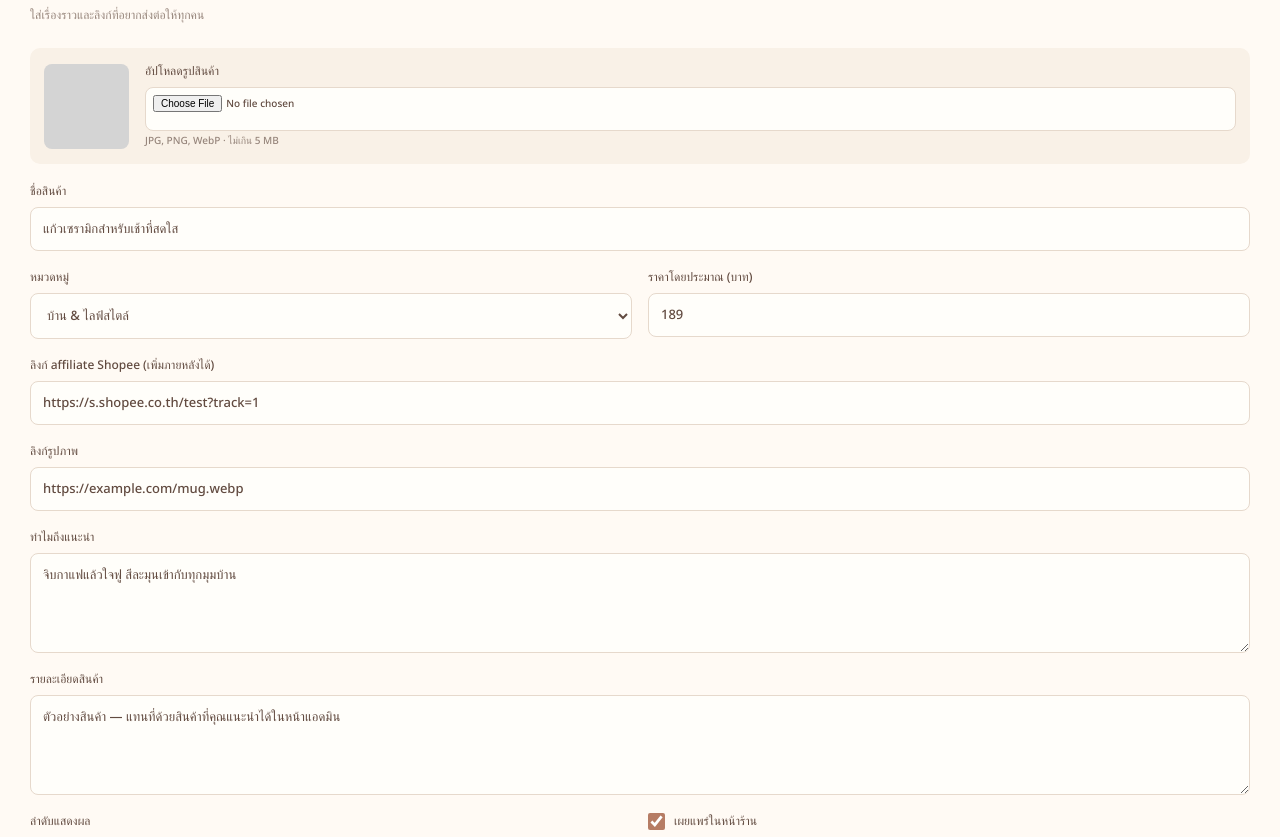
Test: failed product save keeps form and submits original revision
Replace the text in the field labelled "ชื่อสินค้า" with "ชื่อใหม่" at (640, 229), box [30,207,1250,251]
(page scrolled)
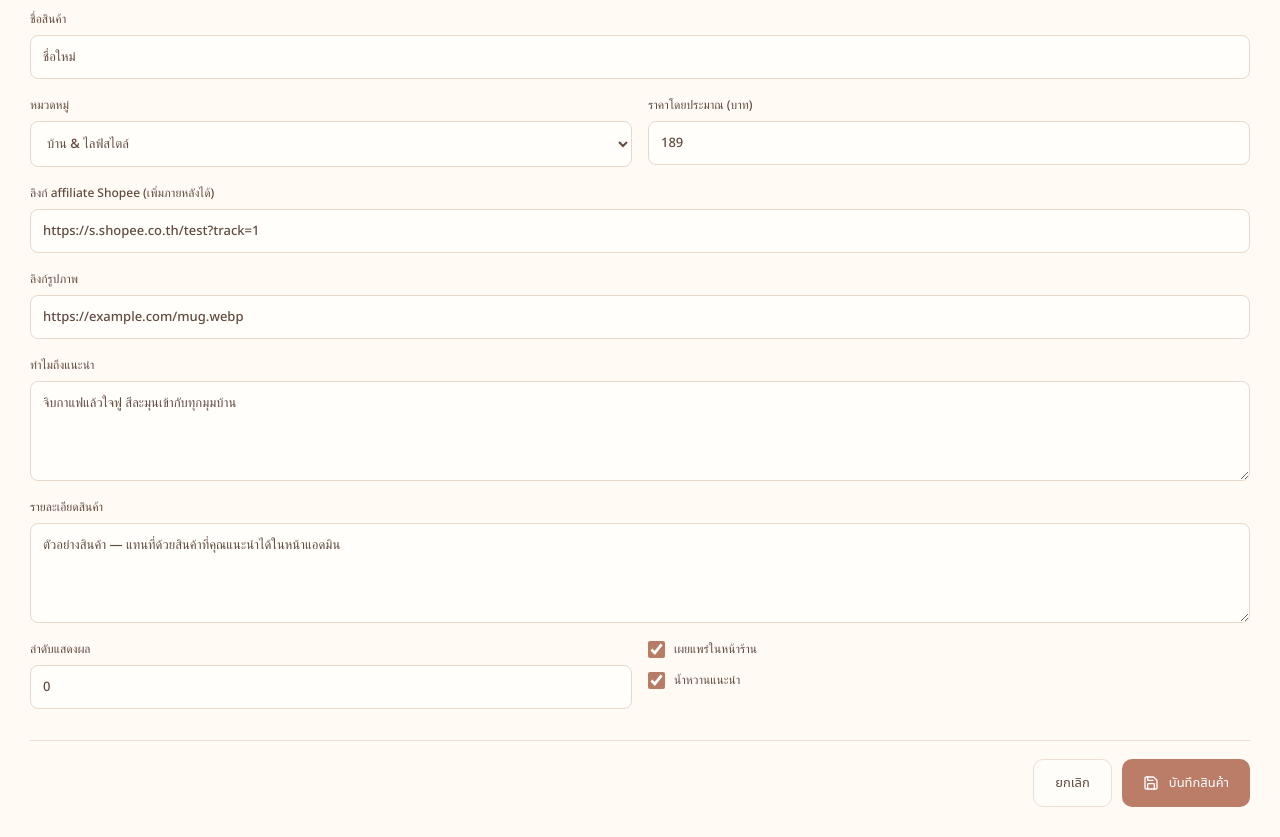
Click the button "บันทึกสินค้า".
click(1186, 783)  # box [1122,759,1250,807]
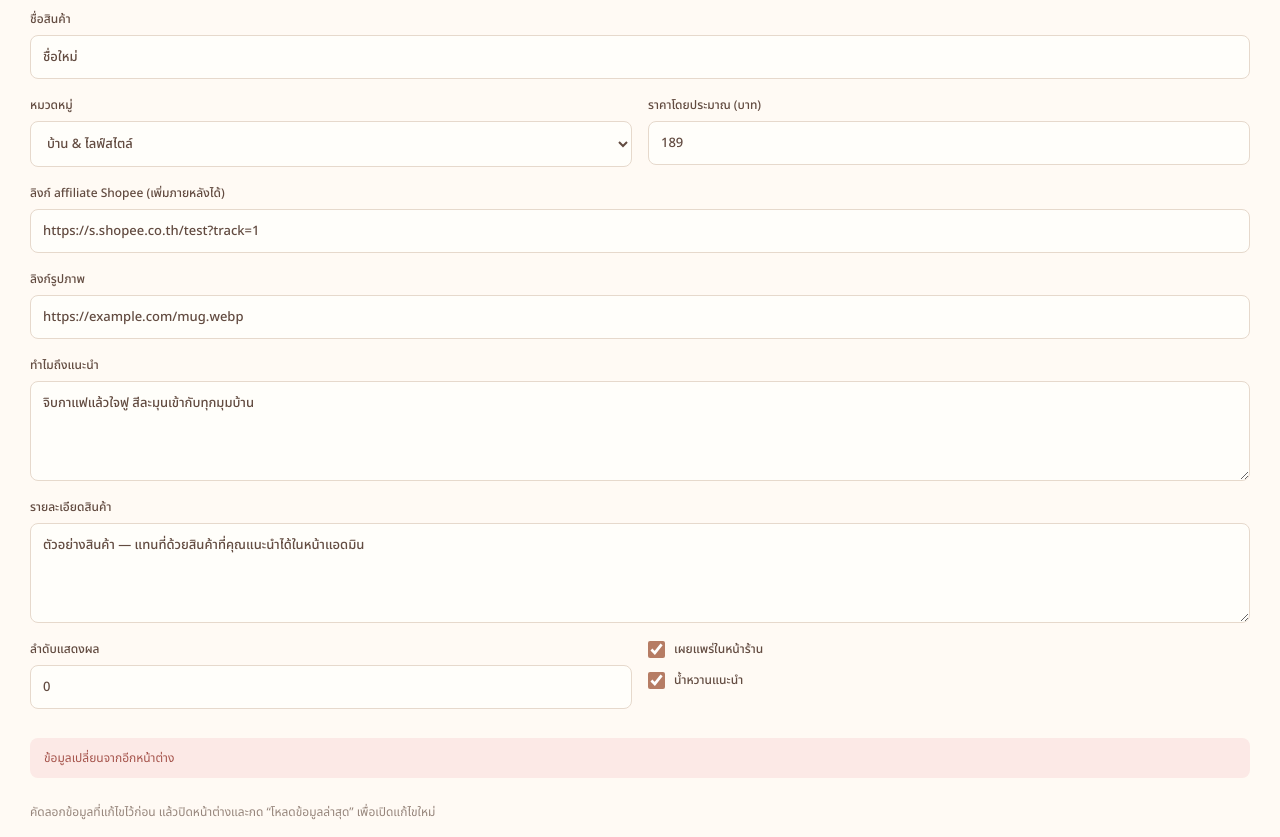
Check: the text "ข้อมูลเปลี่ยนจากอีกหน้าต่าง" is shown, box [30,738,1250,778]
